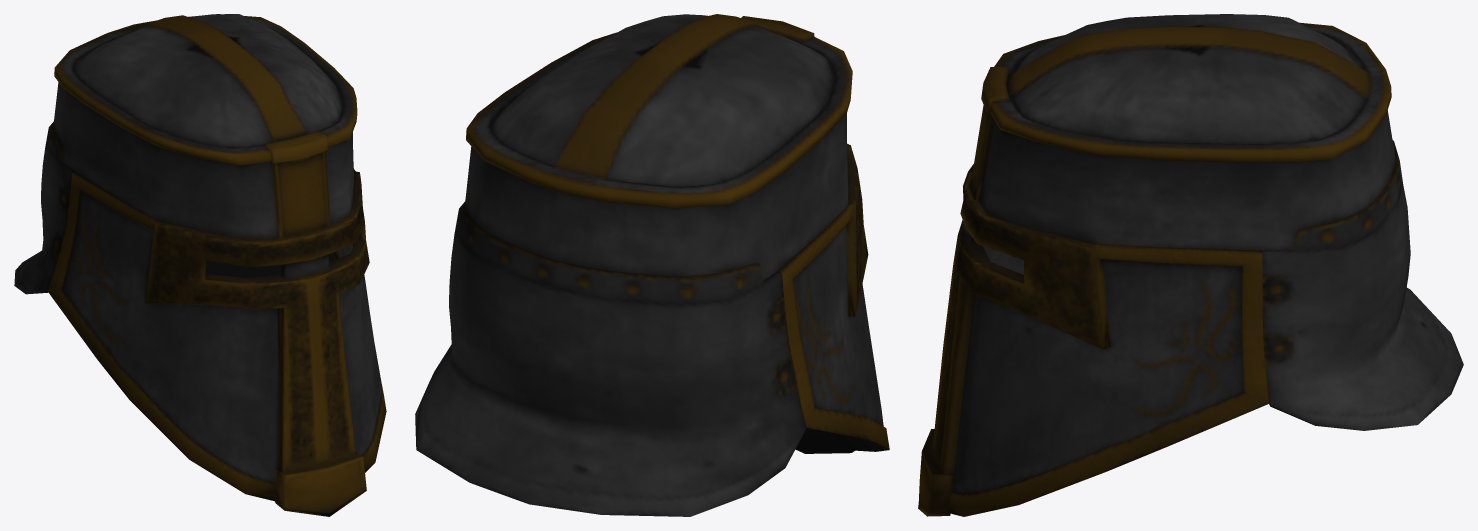
3 views of the same model, side by side, from view 1: azimuth 30°, elevation 25°; view 2: azimuth 150°, elevation 25°; view 3: azimuth 270°, elevation 25° (orthographic). The views are drawn at different scales.
Visible parts, largest first — view 1: Paladin_J_Nordstrom_Shield; view 2: Paladin_J_Nordstrom_Shield; view 3: Paladin_J_Nordstrom_Shield.
Boxes of the visible parts, x1,y1,x2,y2 form: Paladin_J_Nordstrom_Shield: [14, 14, 386, 516]; Paladin_J_Nordstrom_Shield: [415, 14, 889, 516]; Paladin_J_Nordstrom_Shield: [918, 14, 1463, 516].
Size of the model in its own units: 18.78 by 25.27 by 26.34.
